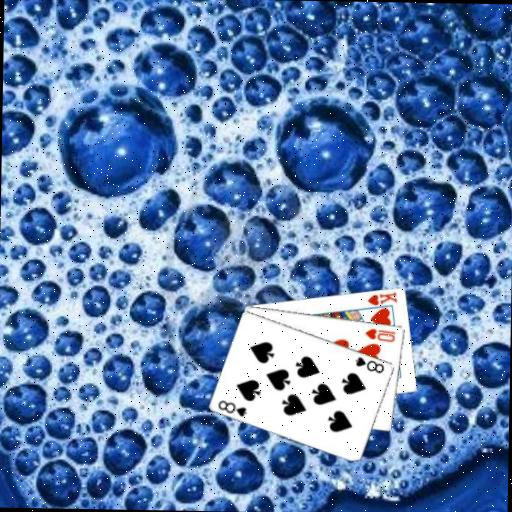10H: (362, 324, 397, 343)
8S: (352, 353, 386, 375), (215, 397, 249, 418)
KH: (365, 288, 399, 307)
